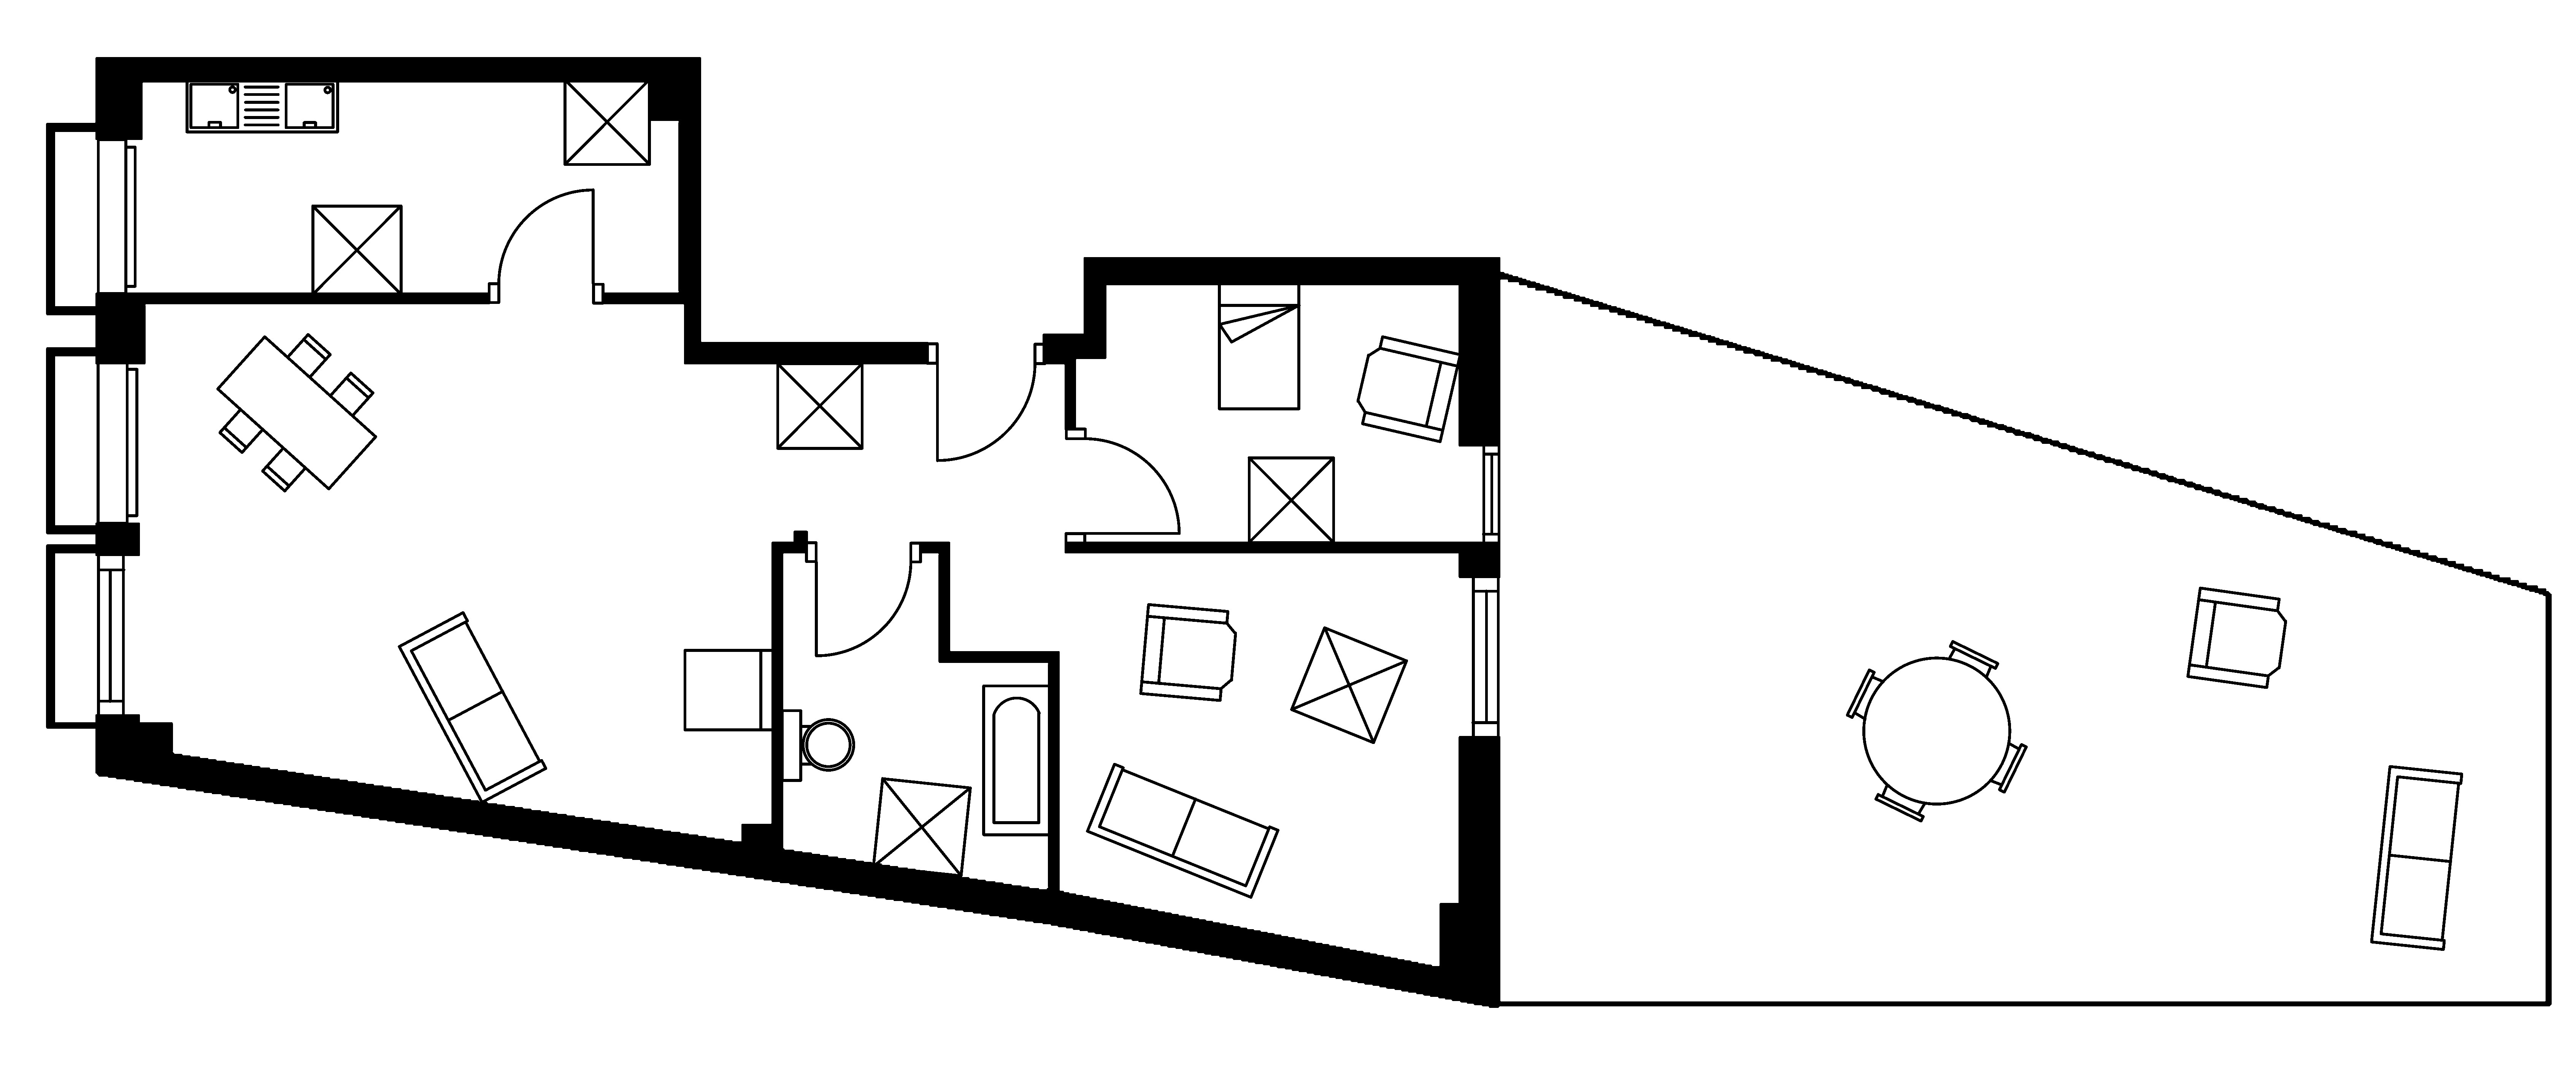armchair: (1355, 335, 1462, 442), (2185, 585, 2287, 689), (1138, 602, 1237, 702)
bed: (1217, 281, 1301, 411)
coffee_table: (1290, 625, 1408, 745), (871, 776, 973, 878), (310, 204, 402, 296), (562, 77, 651, 166), (775, 362, 864, 451), (1247, 456, 1336, 544)
dining_table: (215, 332, 378, 493)
large_sink: (780, 709, 854, 783)
large_sofa: (398, 610, 547, 804), (1086, 761, 1280, 900), (2369, 765, 2463, 951)
round_table: (1845, 640, 2027, 822)
small_sofa: (682, 648, 774, 732)
tub: (981, 684, 1051, 837)
twin_sink: (184, 77, 338, 133)
